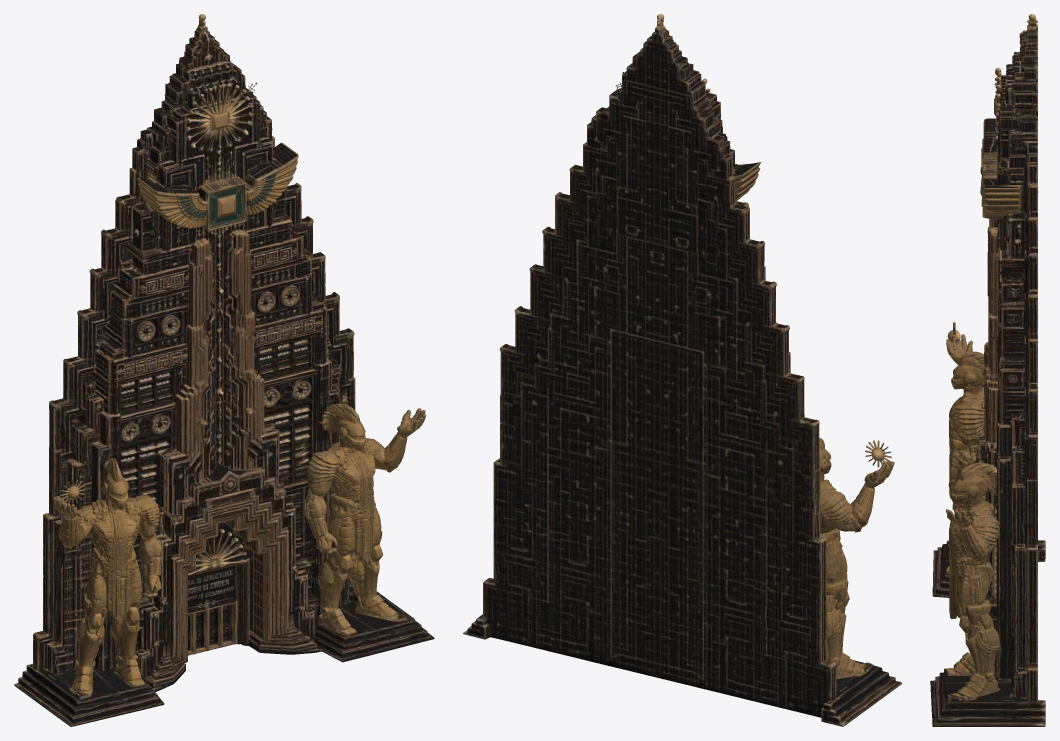
Rendered from pantheon.glb.
3 views of the same model, side by side, from view 1: azimuth 30°, elevation 25°; view 2: azimuth 150°, elevation 25°; view 3: azimuth 270°, elevation 25° (orthographic). The views are drawn at different scales.
Bounding box in the file's own units: 1.16 × 1.9 × 0.3167.
1 material, 1 textured.
